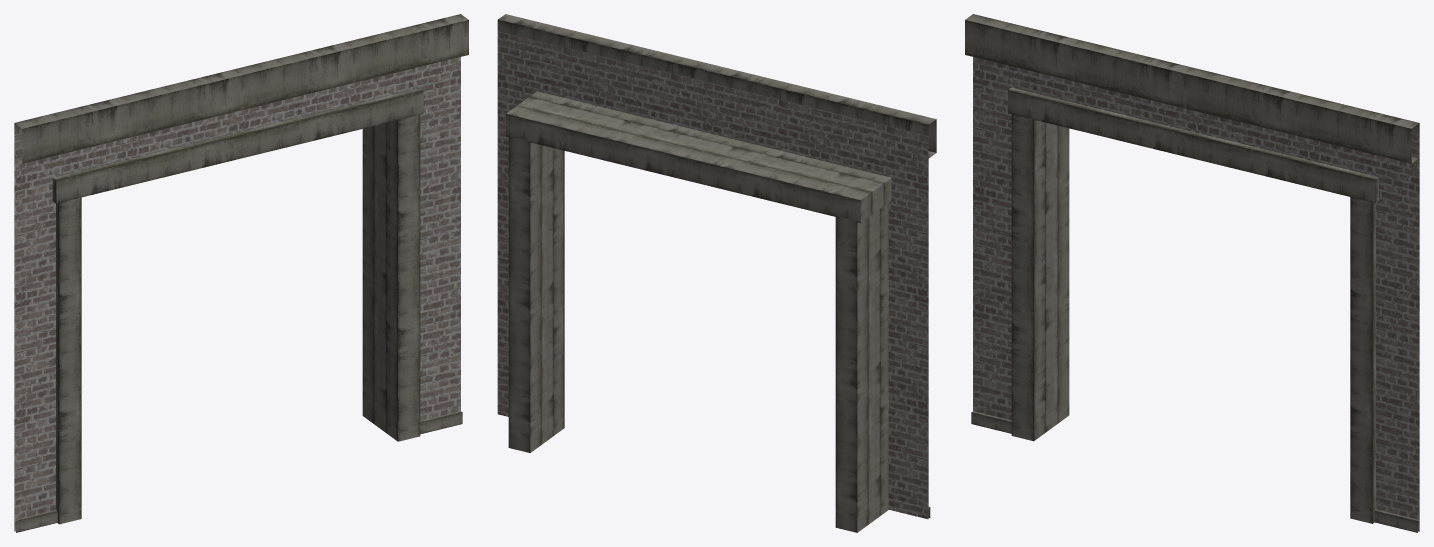
Rendered from W_A_DoorOpen_4x.FBX.
3 views of the same model, side by side, from view 1: azimuth 30°, elevation 25°; view 2: azimuth 150°, elevation 25°; view 3: azimuth 330°, elevation 25° (orthographic). The views are drawn at different scales.
Parts seen in each view (by area): view 1: W_A_DoorOpen_4x; view 2: W_A_DoorOpen_4x; view 3: W_A_DoorOpen_4x.
Boxes of the visible parts, left/top/right/bottom form: W_A_DoorOpen_4x: left=14, top=14, right=468, bottom=532; W_A_DoorOpen_4x: left=497, top=14, right=936, bottom=532; W_A_DoorOpen_4x: left=965, top=14, right=1419, bottom=532.
Size of the model in its own units: 400 by 350 by 62.56.
